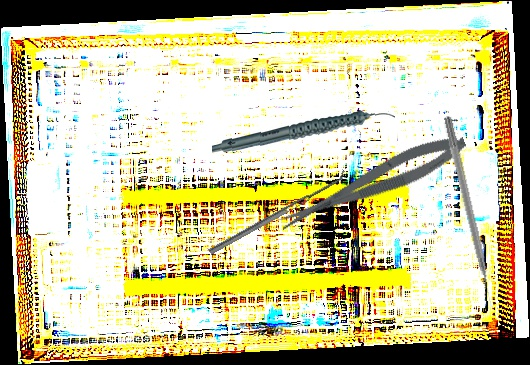Handpiece: (212, 103, 395, 161)
Micro Scissor: (273, 127, 472, 237)
Pusher: (440, 115, 497, 310)
Spatula Surgical: (205, 168, 349, 255)
